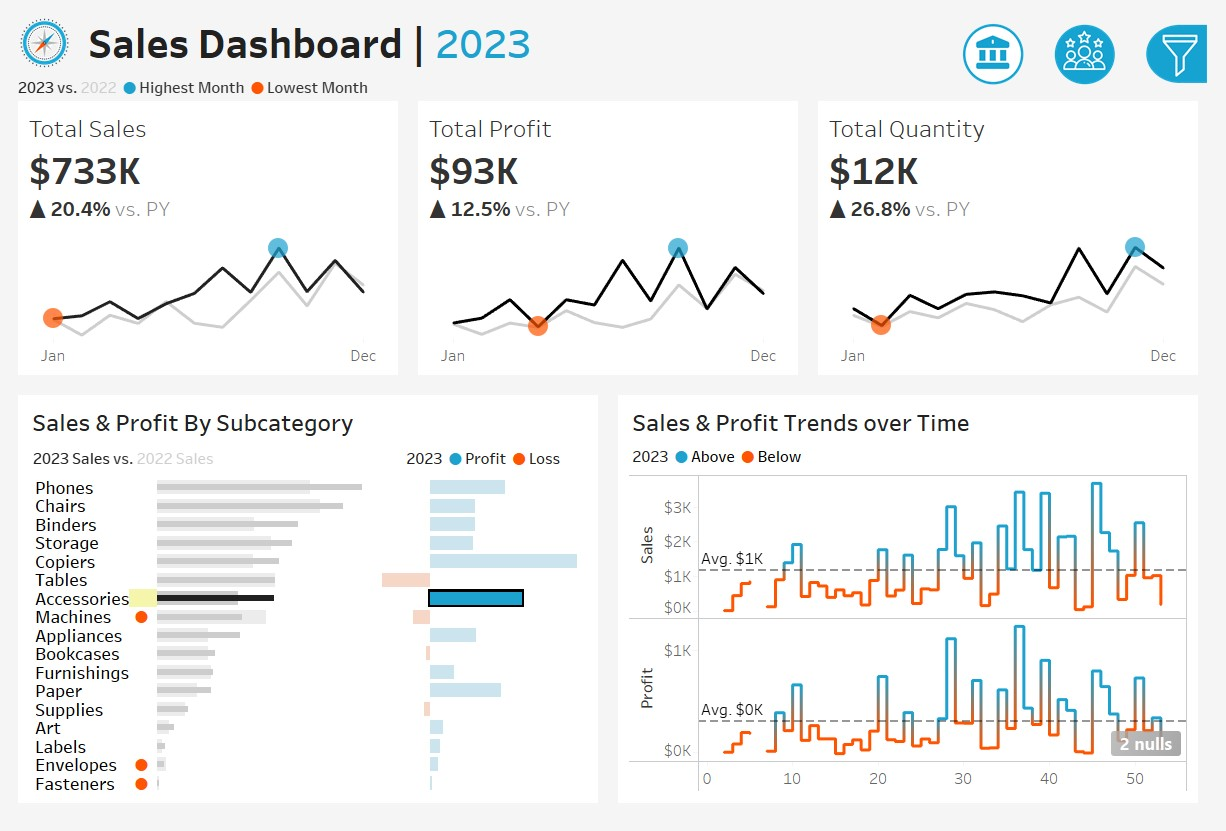

What the dashboard file says about the page in this screenshot:
{"tool":"tableau","page":{"name":"Sales Dashboard","canvas":[1200,800],"ordinal":1},"visuals":[{"type":"image","param":"Image/Icon - Logo.png","box":[0,0,73,59]},{"type":"text","box":[73,0,820,59]},{"type":"dashboard-object","box":[940,6,91,70]},{"type":"dashboard-object","box":[1031,6,91,70]},{"type":"blank","box":[952,10,237,86]},{"type":"worksheet","title":"Legend KPI","mark":"Automatic","box":[0,59,1200,29]},{"type":"worksheet","title":"KPI Sales","mark":"Automatic","rows":["Calculation_721701895347843083"],"cols":["Order Date"],"box":[0,88,400,284]},{"type":"worksheet","title":"KPI Profit","mark":"Automatic","rows":["Min/Max Sales (copy)_237846410425847814"],"cols":["Order Date"],"box":[400,88,400,284]},{"type":"worksheet","title":"KPI Quantity","mark":"Automatic","rows":["Min/Max Sales (copy) (copy)_237846410425856007"],"cols":["Order Date"],"box":[800,88,400,284]},{"type":"text","box":[952,96,237,37]},{"type":"parameter","param":"[Parameters].[Parameter 1]","box":[952,133,237,55]},{"type":"text","box":[952,188,237,32]},{"type":"filter","title":"KPI Sales","param":"[federated.1kpxa041aiai2y1cl4pui1t4eju9].[none:Category:nk]","box":[952,220,237,57]},{"type":"filter","title":"KPI Sales","param":"[federated.1kpxa041aiai2y1cl4pui1t4eju9].[none:Sub-Category:nk]","box":[952,277,237,57]},{"type":"blank","box":[952,334,237,60]},{"type":"text","box":[17,389,566,40]},{"type":"text","box":[617,389,566,40]},{"type":"text","box":[952,394,237,32]},{"type":"filter","title":"KPI Sales","param":"[federated.1kpxa041aiai2y1cl4pui1t4eju9].[none:Region:nk]","box":[952,426,237,57]},{"type":"worksheet","title":"Legend Subcategory","mark":"Automatic","box":[17,429,374,32]},{"type":"text","box":[391,429,192,32]},{"type":"text","box":[617,429,566,29]},{"type":"worksheet","title":"Weekly Trends","mark":"Automatic","rows":["Calculation_721701895334993921","CY Sales (copy)_237846410424180736"],"cols":["Order Date"],"box":[617,458,566,325]},{"type":"worksheet","title":"Subcategory Comparison","mark":"Bar","rows":["Sub-Category","Calculation_2435040078806671369"],"cols":["CY Sales (copy)_721701895335804930","Calculation_721701895334993921","CY Sales (copy)_237846410424180736"],"box":[17,461,566,321.9]},{"type":"filter","title":"KPI Sales","param":"[federated.1kpxa041aiai2y1cl4pui1t4eju9].[none:State:nk]","box":[952,483,237,57]},{"type":"filter","title":"KPI Sales","param":"[federated.1kpxa041aiai2y1cl4pui1t4eju9].[none:City:nk]","box":[952,540,237,57]}]}

Visuals, with their boxes in screenshot pixels (x1, y1, x2, y2), scaled from the page's 1200x800 canvas onto the 1226x831 screenshot:
image: x1=0, y1=0, x2=75, y2=61
text: x1=75, y1=0, x2=912, y2=61
dashboard-object: x1=960, y1=6, x2=1053, y2=79
dashboard-object: x1=1053, y1=6, x2=1146, y2=79
blank: x1=973, y1=10, x2=1215, y2=100
"Legend KPI" worksheet: x1=0, y1=61, x2=1225, y2=91
"KPI Sales" worksheet: x1=0, y1=91, x2=409, y2=386
"KPI Profit" worksheet: x1=409, y1=91, x2=817, y2=386
"KPI Quantity" worksheet: x1=817, y1=91, x2=1225, y2=386
text: x1=973, y1=100, x2=1215, y2=138
parameter: x1=973, y1=138, x2=1215, y2=195
text: x1=973, y1=195, x2=1215, y2=229
"KPI Sales" filter: x1=973, y1=229, x2=1215, y2=288
"KPI Sales" filter: x1=973, y1=288, x2=1215, y2=347
blank: x1=973, y1=347, x2=1215, y2=409
text: x1=17, y1=404, x2=596, y2=446
text: x1=630, y1=404, x2=1209, y2=446
text: x1=973, y1=409, x2=1215, y2=443
"KPI Sales" filter: x1=973, y1=443, x2=1215, y2=502
"Legend Subcategory" worksheet: x1=17, y1=446, x2=399, y2=479
text: x1=399, y1=446, x2=596, y2=479
text: x1=630, y1=446, x2=1209, y2=476
"Weekly Trends" worksheet: x1=630, y1=476, x2=1209, y2=813
"Subcategory Comparison" worksheet (Bar marks): x1=17, y1=479, x2=596, y2=813
"KPI Sales" filter: x1=973, y1=502, x2=1215, y2=561
"KPI Sales" filter: x1=973, y1=561, x2=1215, y2=620
